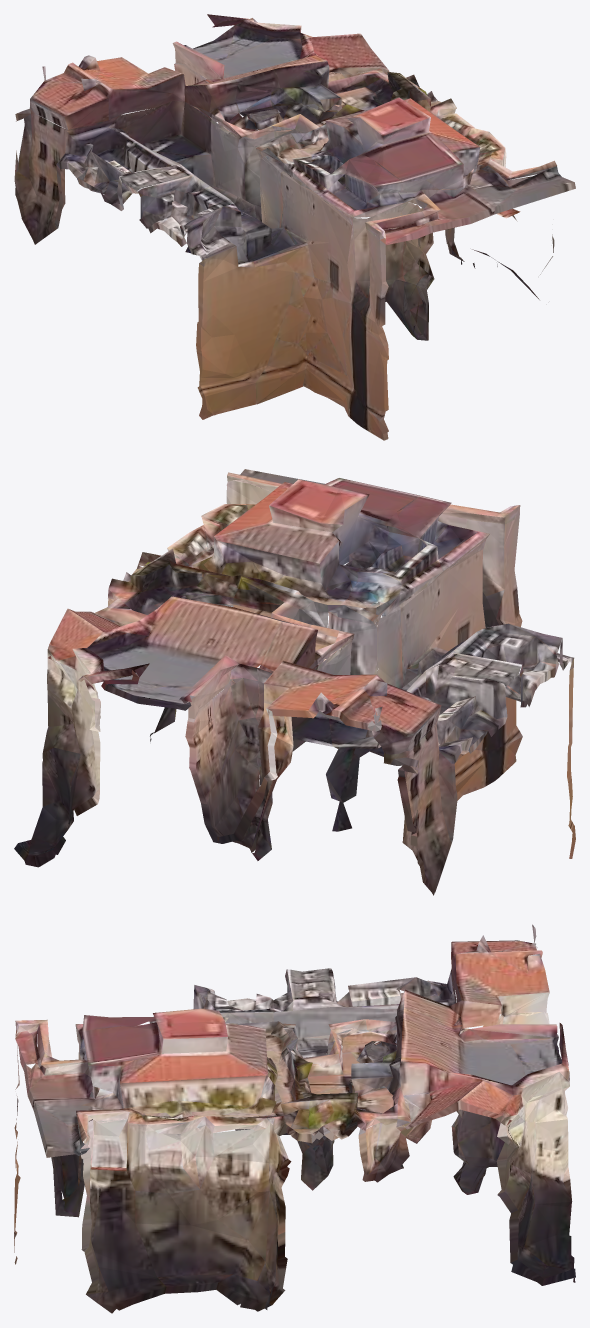
The picture shows the model from 3 angles, top to bottom: view 1: azimuth 30°, elevation 25°; view 2: azimuth 150°, elevation 25°; view 3: azimuth 270°, elevation 25°; orthographic projection. The views are drawn at different scales.
Parts seen in each view (by area): view 1: Mesh_0; view 2: Mesh_0; view 3: Mesh_0.
Part boxes in pixels (x1=…): Mesh_0: x1=14, y1=14, x2=575, y2=440; Mesh_0: x1=14, y1=469, x2=575, y2=895; Mesh_0: x1=14, y1=924, x2=575, y2=1313.
Bounding box in the file's own units: 33.33 × 22.79 × 40.26.
1 material, 1 textured.
